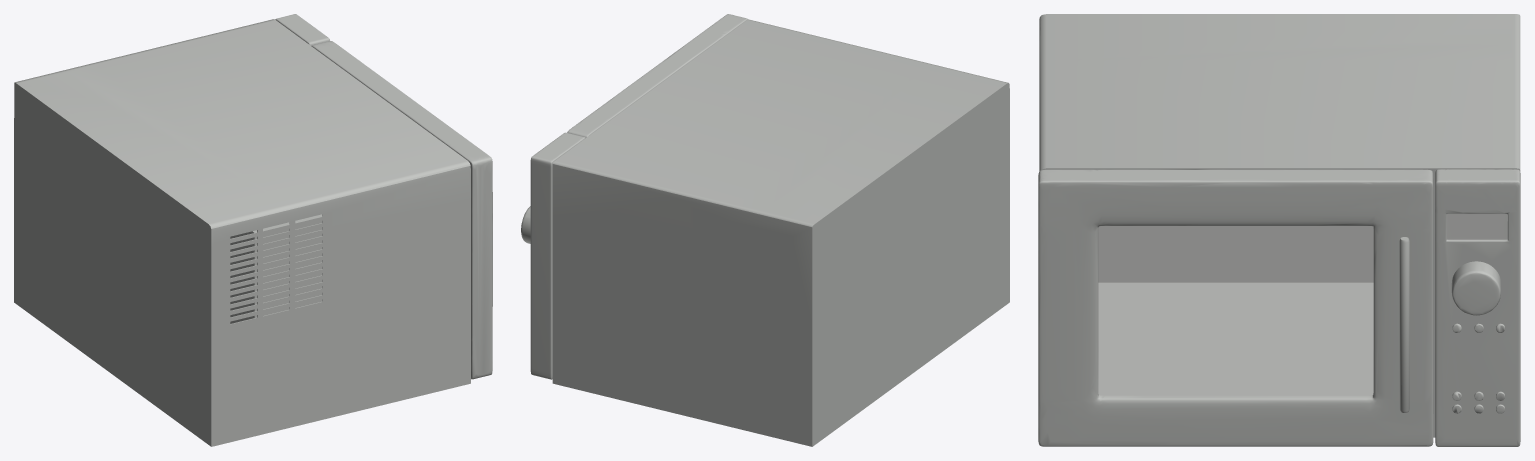
The model's file is microwave.glb.
3 renders of one model, left to right at view 1: azimuth 30°, elevation 25°; view 2: azimuth 150°, elevation 25°; view 3: azimuth 270°, elevation 25°, orthographic. The views are drawn at different scales.
Visible parts, largest first — view 1: MicrowaveBack; view 2: MicrowaveBack; view 3: MicrowaveBack, MicrowaveGlass, MicrowaveDigital.
Boxes of the visible parts, box(x1,y1,x2,y2) form: MicrowaveBack: box(14, 14, 492, 446); MicrowaveBack: box(521, 14, 1009, 446); MicrowaveBack: box(1038, 14, 1520, 446); MicrowaveGlass: box(1098, 226, 1373, 395); MicrowaveDigital: box(1447, 214, 1507, 239).
Size of the model in its own units: 0.6046 by 0.4184 by 0.6788.
Materials: 2 (2 with a texture image).
